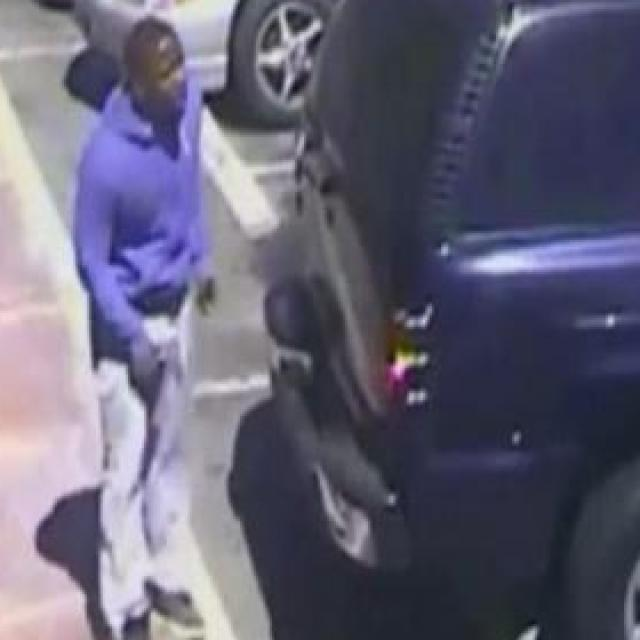pistol: (194, 268, 217, 324)
